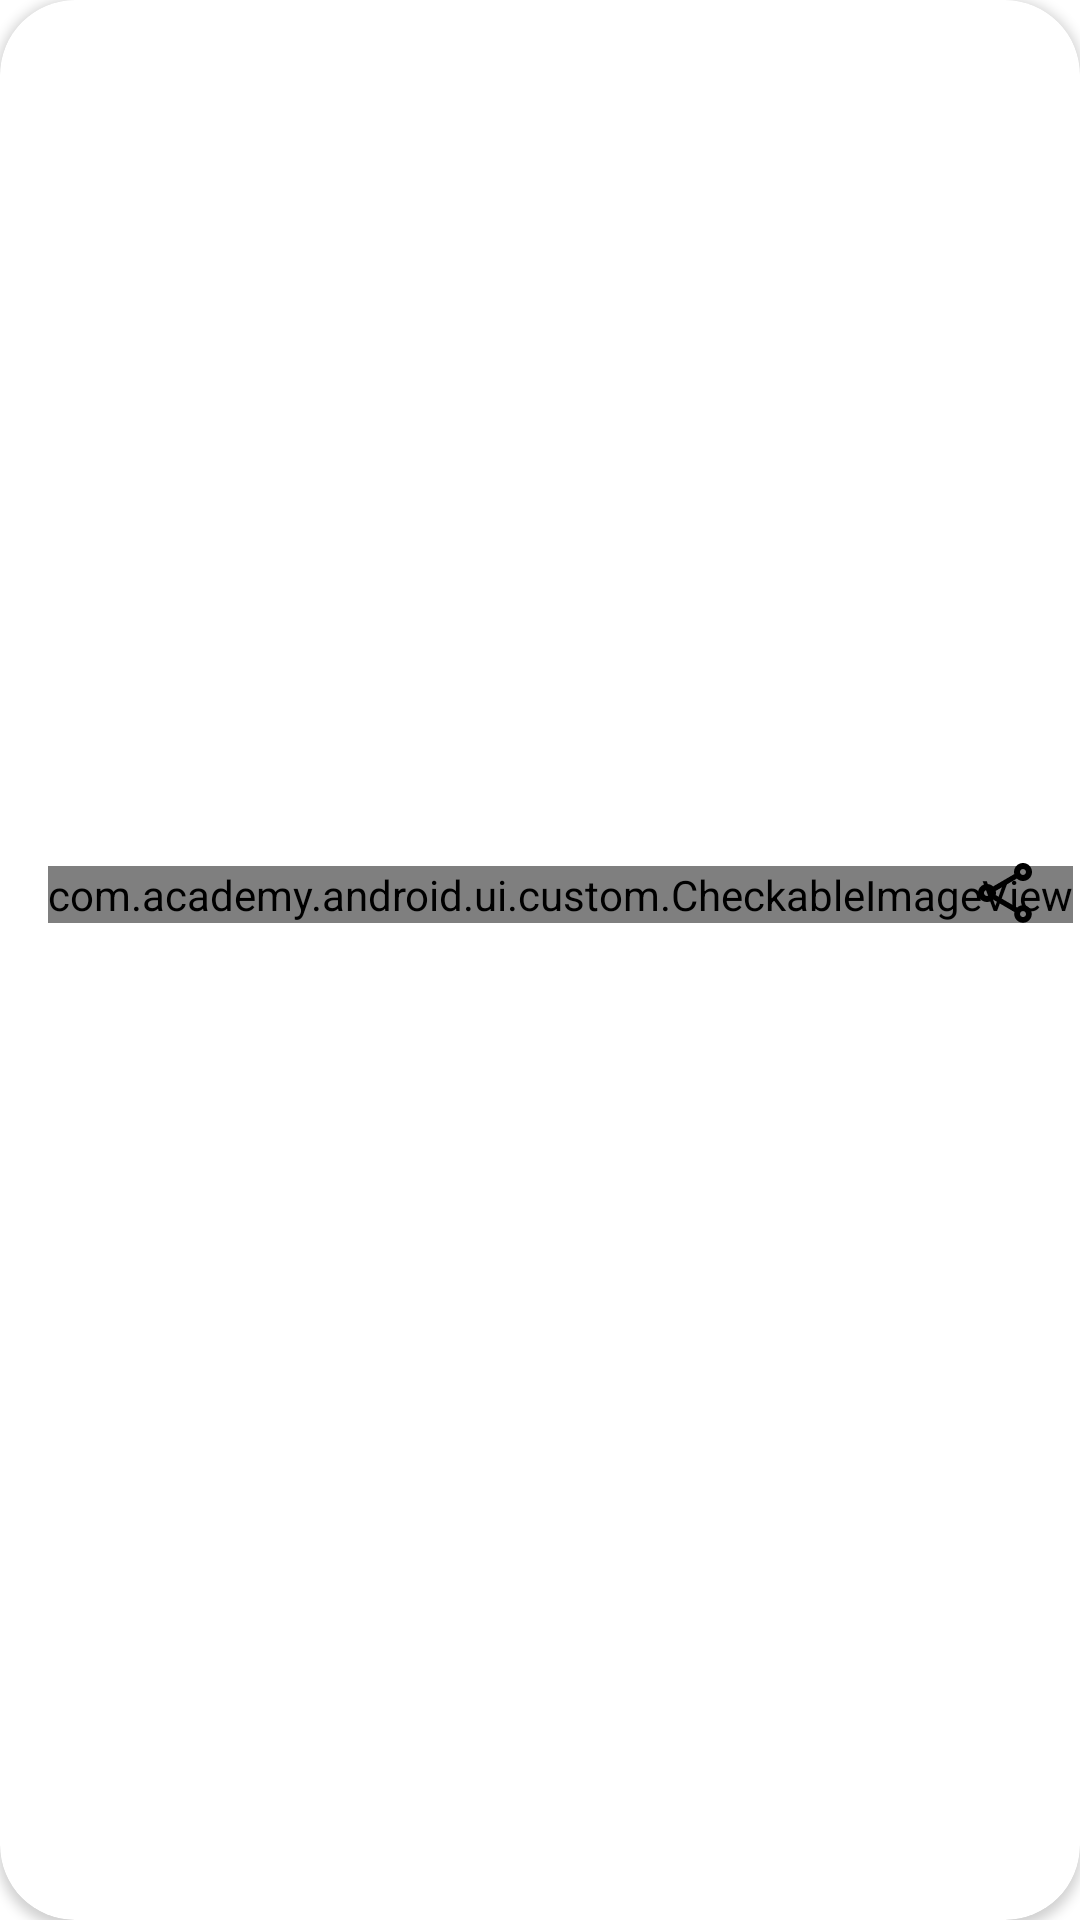

Screen size 1080*1920. Icon name, then its center in pixels as [x,y]:
share: [1005,893]
